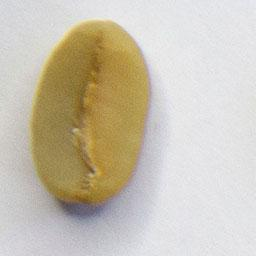defect: (27, 16, 154, 211)
